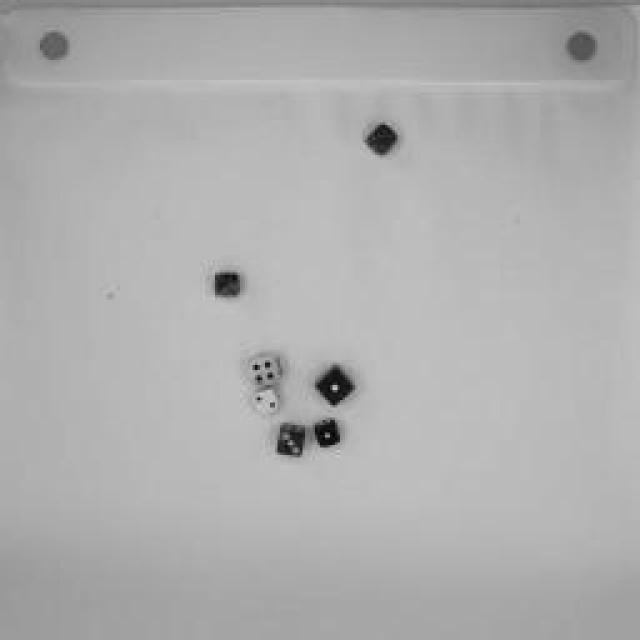dice_1: (305, 358, 360, 412), (314, 418, 348, 454)
dice_2: (358, 118, 404, 160), (252, 385, 282, 417)
dice_3: (270, 421, 310, 459)
dice_4: (246, 346, 286, 394)
dice_5: (210, 268, 242, 302)
